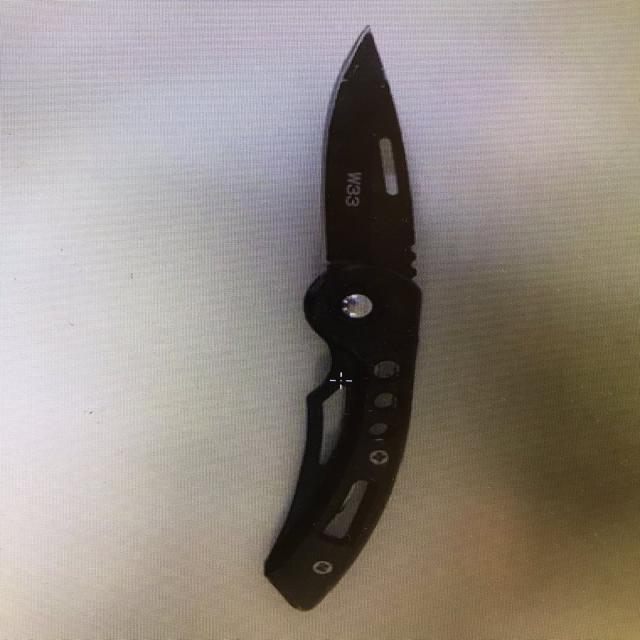Sharp-Object: (269, 23, 420, 611)
